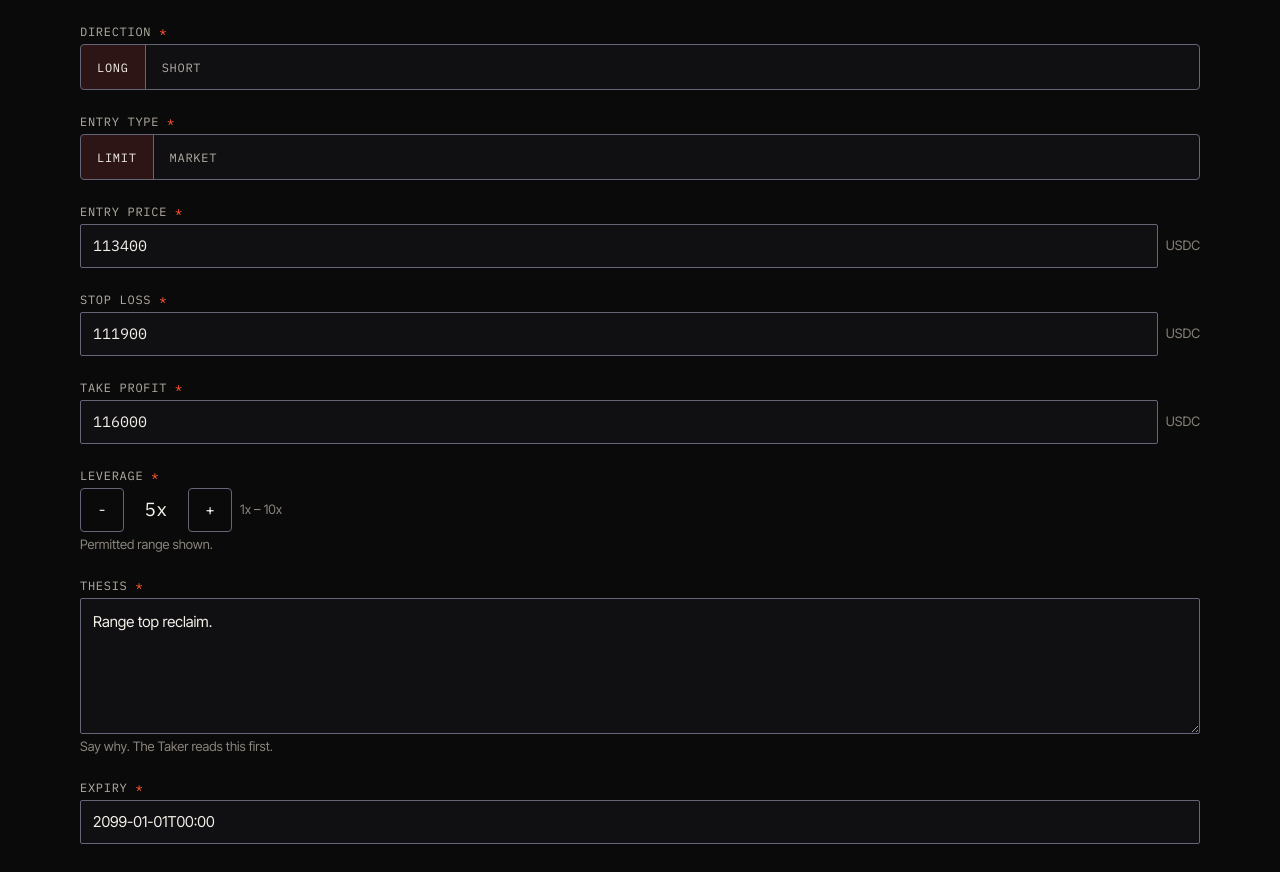
Scenario: Edit Pass (same form, ?edit={id}) › PATCHes the id with the current version and shows the new version
(page scrolled)
Replace the text in the field labelled "Take profit *" with "117500". click: (619, 422)
box: x1=80 y1=400 x2=1158 y2=444
(page scrolled)
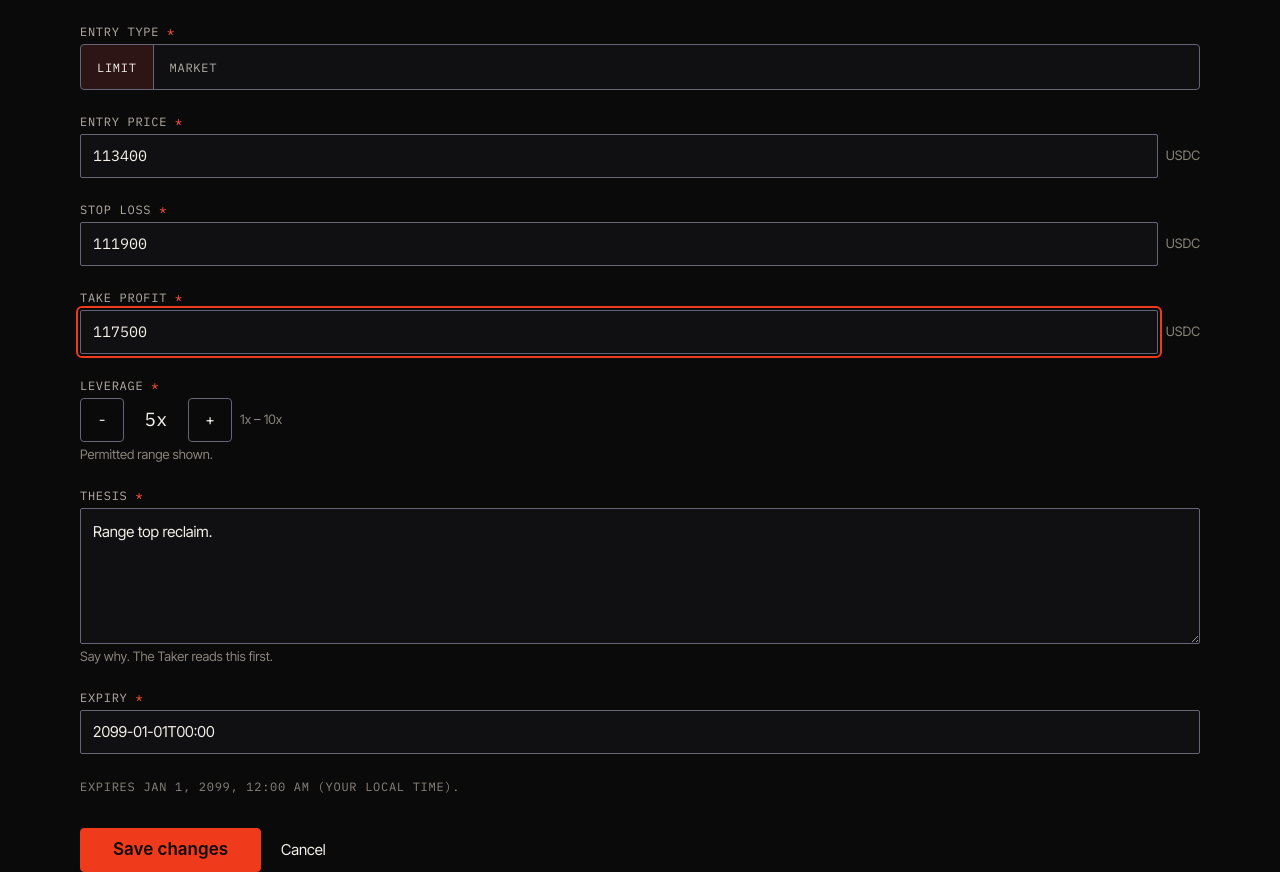
Now the button "Save changes" does not have attribute aria-disabled="true"
Click the button "Save changes". click: (170, 850)
box: x1=80 y1=828 x2=261 y2=871
(page scrolled)
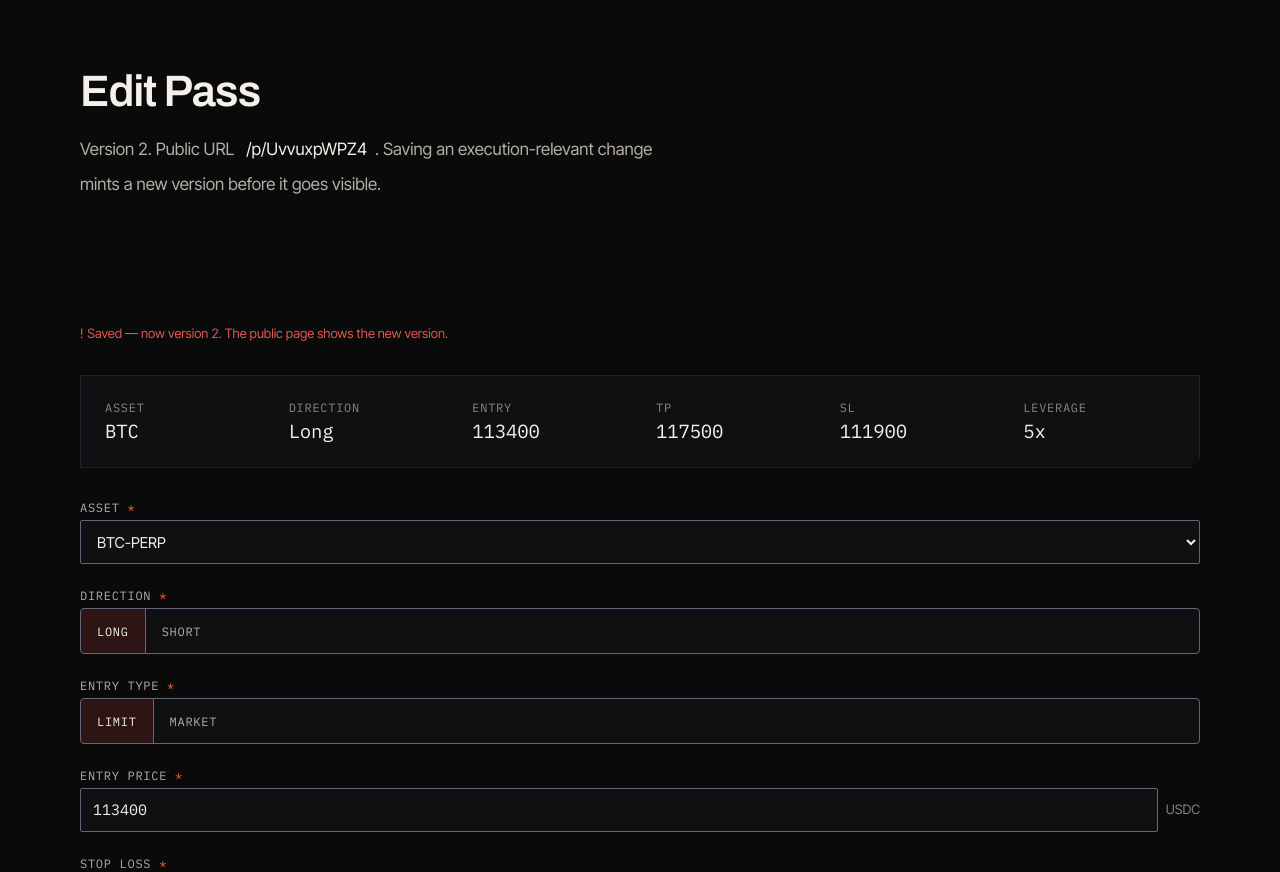
Now the text "Saved — now version 2" is shown, box x1=87 y1=325 x2=448 y2=342
